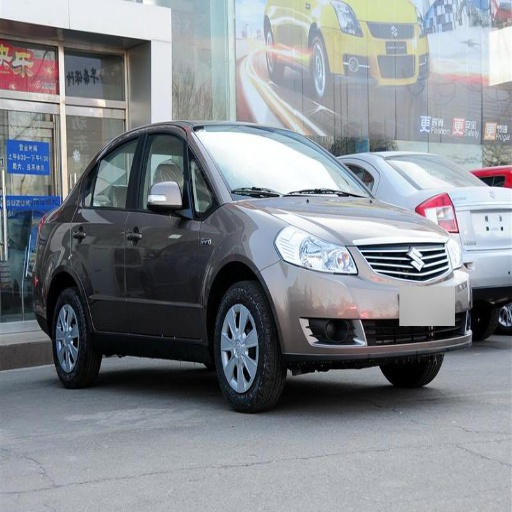front_bumper: (267, 243, 469, 365)
front_right_door: (125, 129, 217, 338)
front_right_light: (276, 227, 357, 274)
